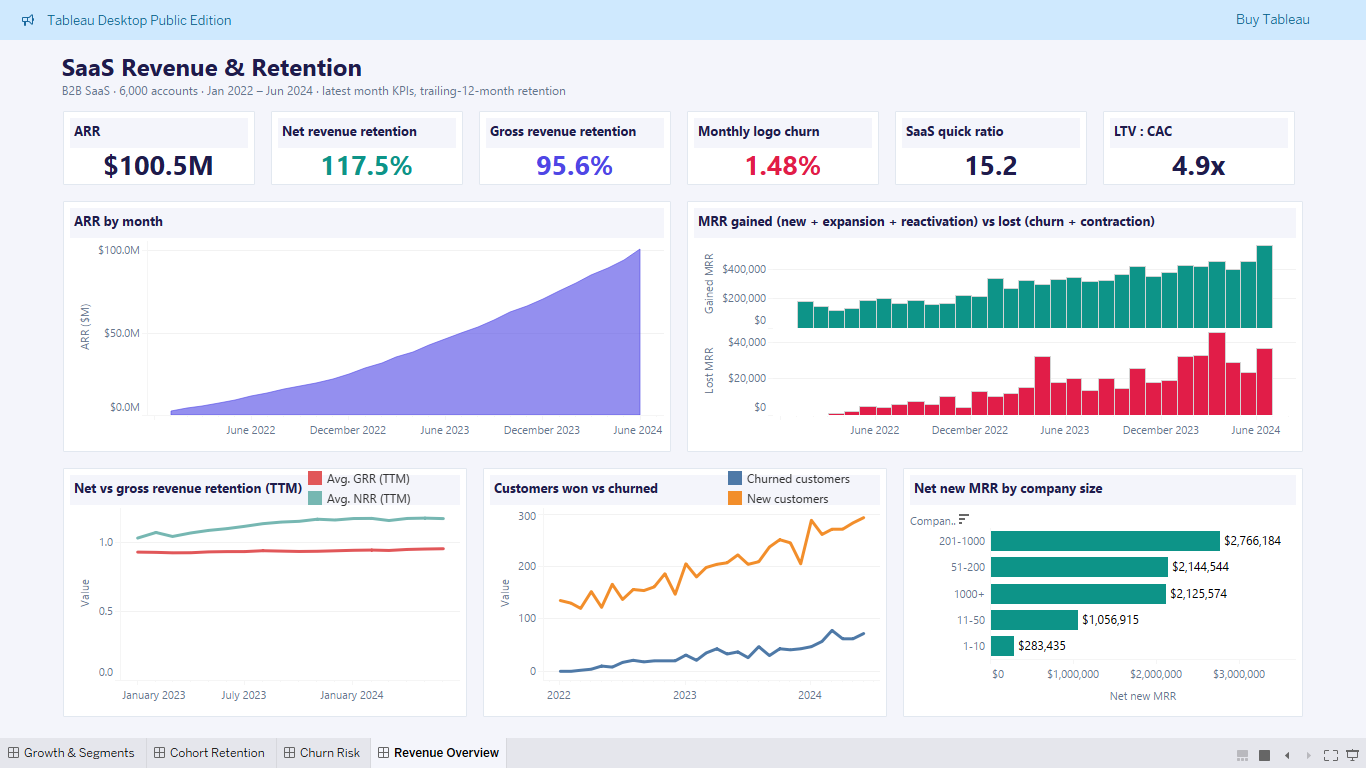

Layout of this report page (visuals, bound fields, positions):
{"tool":"tableau","page":{"name":"Revenue Overview","canvas":[1280,690],"ordinal":0},"visuals":[{"type":"text","box":[16,7.7,900,28.8]},{"type":"text","box":[16,36.4,900,21.1]},{"type":"worksheet","title":"KPI ARR","mark":"Text","box":[16,63.3,200,82.4]},{"type":"worksheet","title":"KPI NRR","mark":"Text","box":[224,63.3,200,82.4]},{"type":"worksheet","title":"KPI GRR","mark":"Text","box":[432,63.3,200,82.4]},{"type":"worksheet","title":"KPI Logo churn","mark":"Text","box":[640,63.3,200,82.4]},{"type":"worksheet","title":"KPI Quick ratio","mark":"Text","box":[848,63.3,200,82.4]},{"type":"worksheet","title":"KPI LTV CAC","mark":"Text","box":[1056,63.3,200,82.4]},{"type":"worksheet","title":"ARR trend","mark":"Area","rows":["ARR M"],"cols":["month"],"box":[16,153.3,616,258.8]},{"type":"worksheet","title":"MRR gained lost","mark":"Bar","rows":["Gained MRR","Lost MRR"],"cols":["month"],"box":[640,153.3,624,258.8]},{"type":"worksheet","title":"NRR GRR trend","mark":"Line","cols":["month"],"box":[16,419.7,412,256.8]},{"type":"worksheet","title":"Logos won lost","mark":"Line","cols":["month"],"box":[436,419.7,412,256.8]},{"type":"worksheet","title":"Net MRR by size","mark":"Bar","rows":["company_size"],"cols":["Net new MRR"],"box":[856,419.7,408,256.8]},{"type":"legend","title":"NRR GRR trend","param":"[federated.aa59d67c2123f094d0d6798ffe65].[:Measure Names]","box":[262,423.6,160,47.9]},{"type":"legend","title":"Logos won lost","param":"[federated.aa59d67c2123f094d0d6798ffe65].[:Measure Names]","box":[682,423.6,160,47.9]}]}

Visuals, with their boxes on the page's 1280x690 design canvas (x1, y1, x2, y2). These are canvas units, not pixel positions in the 1366x768 screenshot, which may show the page scaled, cropped or inside an application window:
text: x1=16, y1=8, x2=916, y2=36
text: x1=16, y1=36, x2=916, y2=58
"KPI ARR" worksheet (Text marks): x1=16, y1=63, x2=216, y2=146
"KPI NRR" worksheet (Text marks): x1=224, y1=63, x2=424, y2=146
"KPI GRR" worksheet (Text marks): x1=432, y1=63, x2=632, y2=146
"KPI Logo churn" worksheet (Text marks): x1=640, y1=63, x2=840, y2=146
"KPI Quick ratio" worksheet (Text marks): x1=848, y1=63, x2=1048, y2=146
"KPI LTV CAC" worksheet (Text marks): x1=1056, y1=63, x2=1256, y2=146
"ARR trend" worksheet (Area marks): x1=16, y1=153, x2=632, y2=412
"MRR gained lost" worksheet (Bar marks): x1=640, y1=153, x2=1264, y2=412
"NRR GRR trend" worksheet (Line marks): x1=16, y1=420, x2=428, y2=676
"Logos won lost" worksheet (Line marks): x1=436, y1=420, x2=848, y2=676
"Net MRR by size" worksheet (Bar marks): x1=856, y1=420, x2=1264, y2=676
"NRR GRR trend" legend: x1=262, y1=424, x2=422, y2=472
"Logos won lost" legend: x1=682, y1=424, x2=842, y2=472
